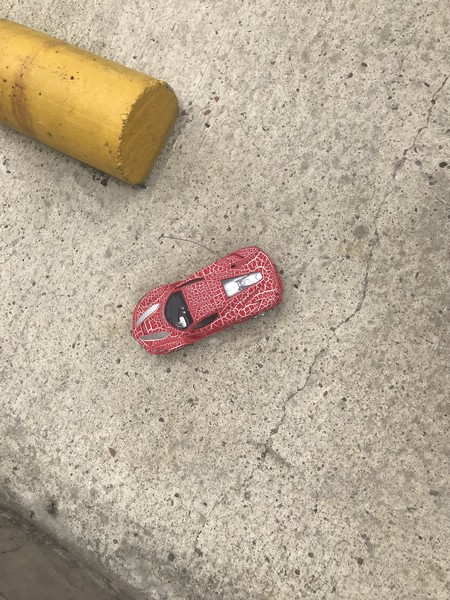RC: (129, 245, 283, 357)
